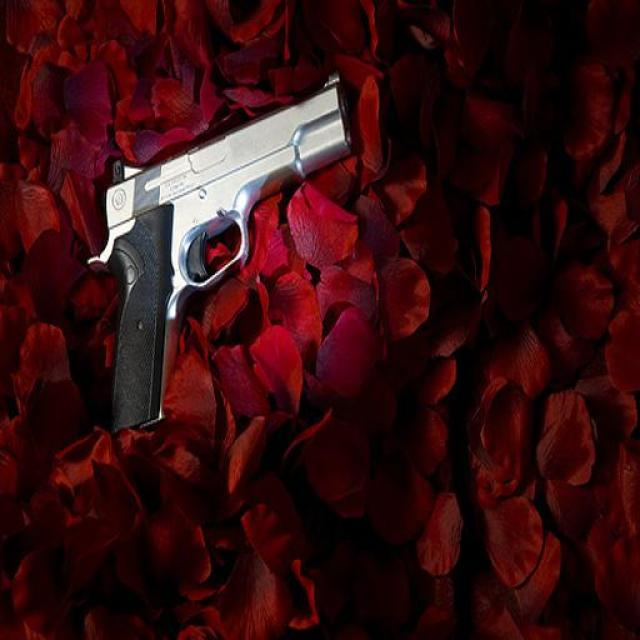pistol: (85, 69, 354, 439)
